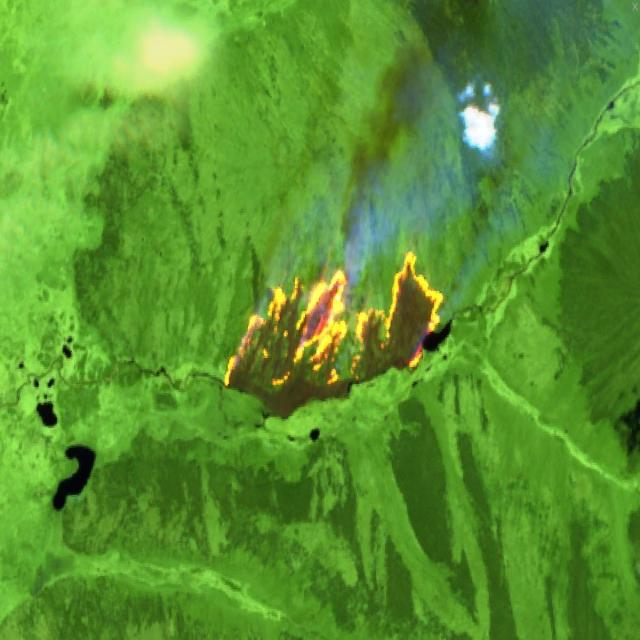fire: (218, 246, 446, 396)
